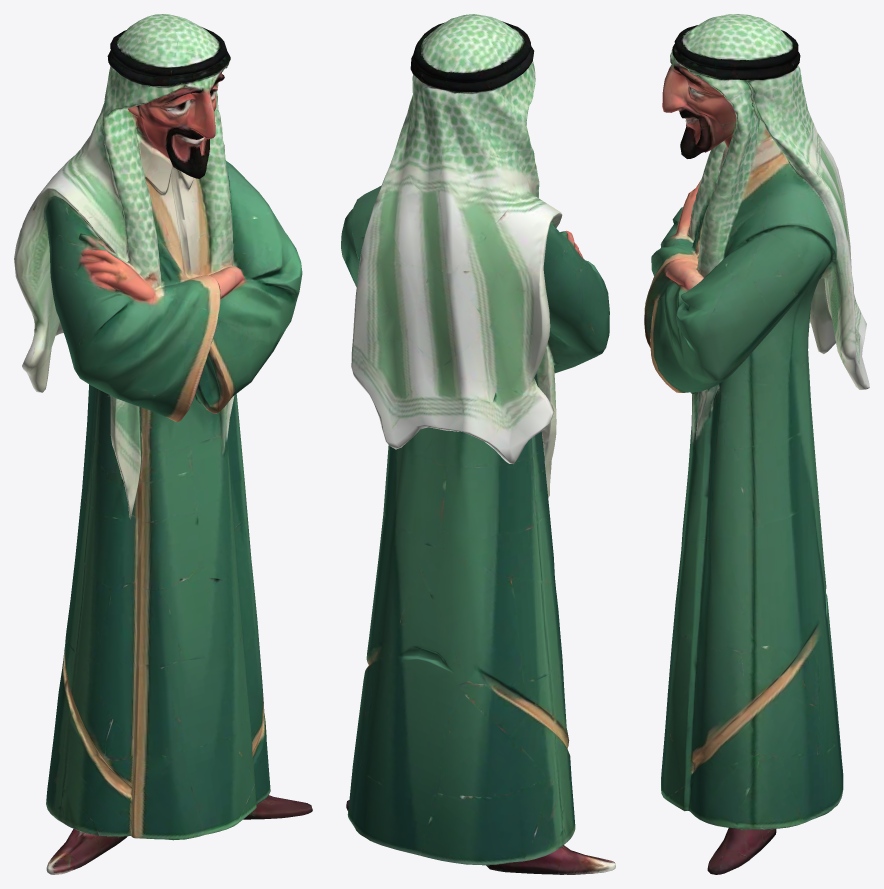
The model's file is emerald_robed.glb.
3 views of the same model, side by side, from view 1: azimuth 30°, elevation 25°; view 2: azimuth 150°, elevation 25°; view 3: azimuth 270°, elevation 25° (orthographic). The views are drawn at different scales.
Bounding box in the file's own units: 0.6446 × 1.9 × 0.4887.
1 material, 1 textured.
